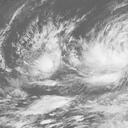cyclone: (80, 36, 127, 88), (23, 42, 60, 78)
